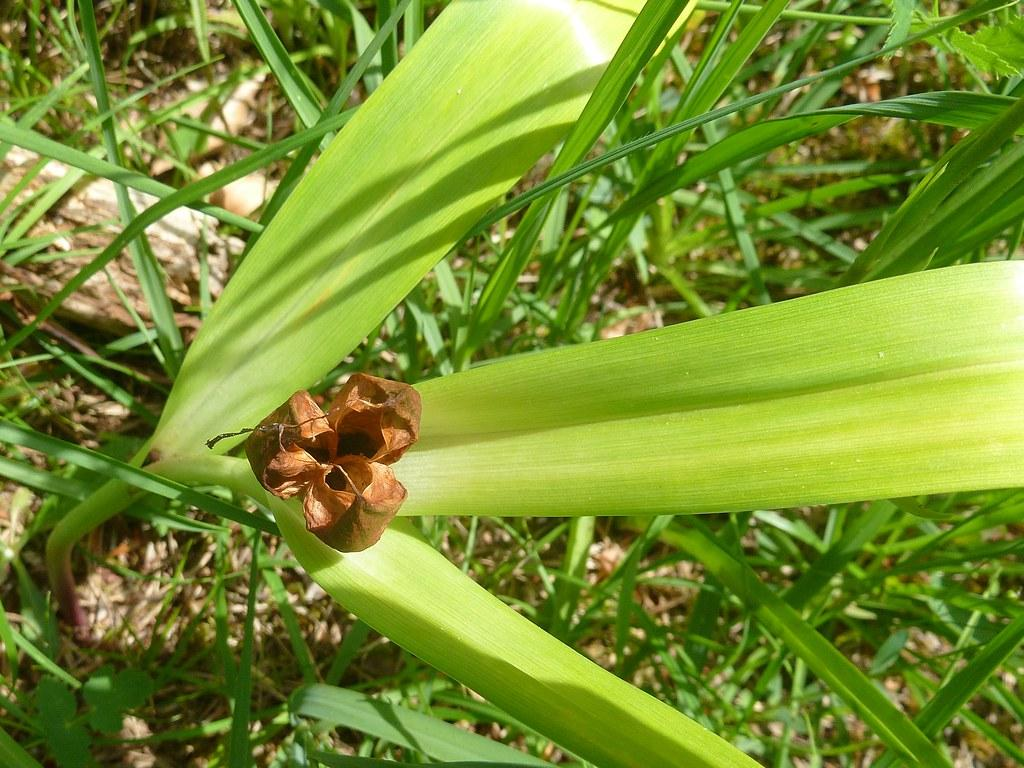Colchicum autumnale L: (89, 44, 933, 768)
